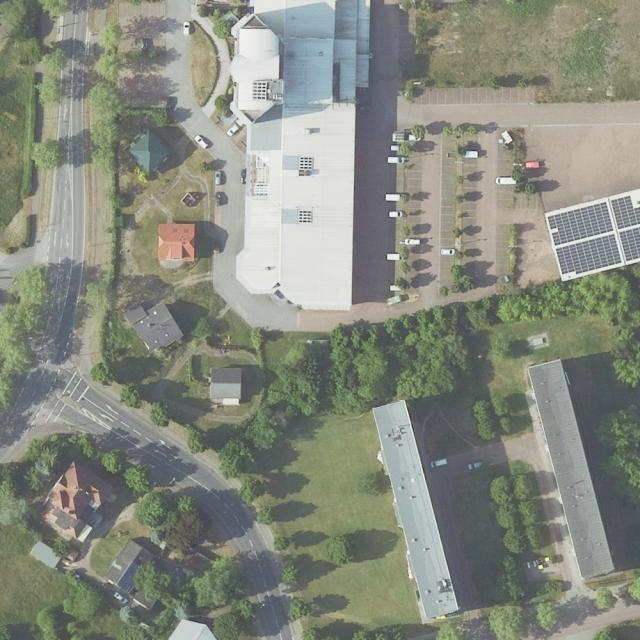PV: (547, 201, 613, 246), (556, 233, 621, 274), (611, 194, 640, 228), (620, 227, 640, 261)
